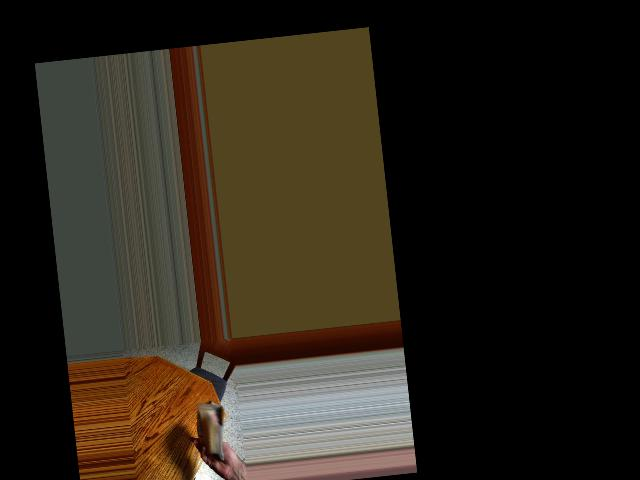cheese: (188, 401, 232, 457)
